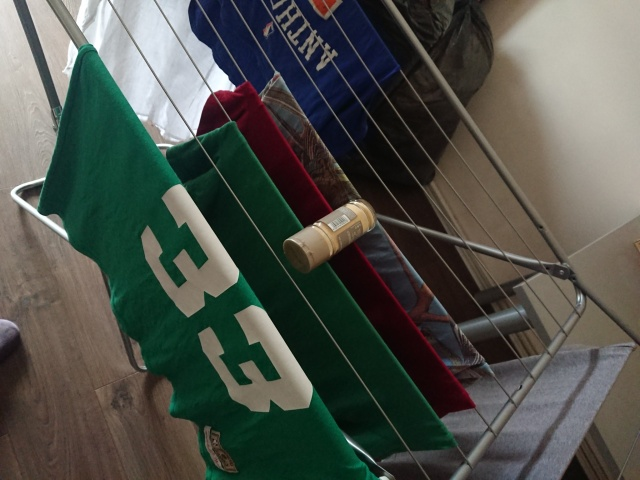Kotanyi Garlic Granules 70g: (279, 195, 380, 276)
